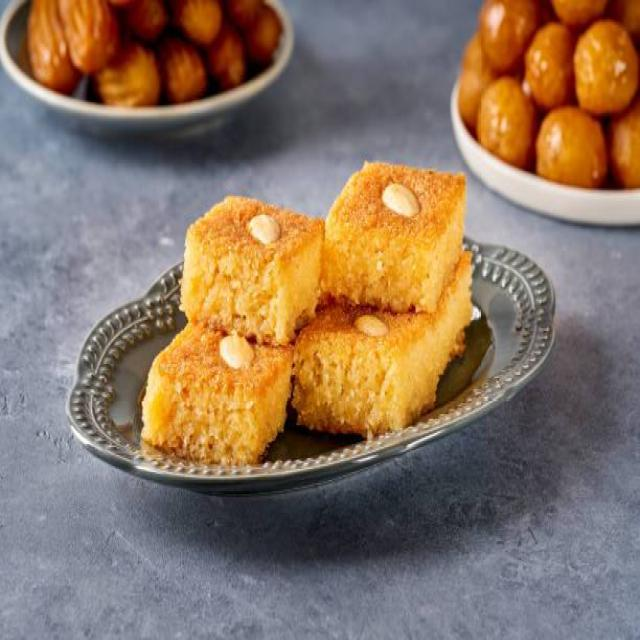pasposa: (135, 155, 488, 473)
